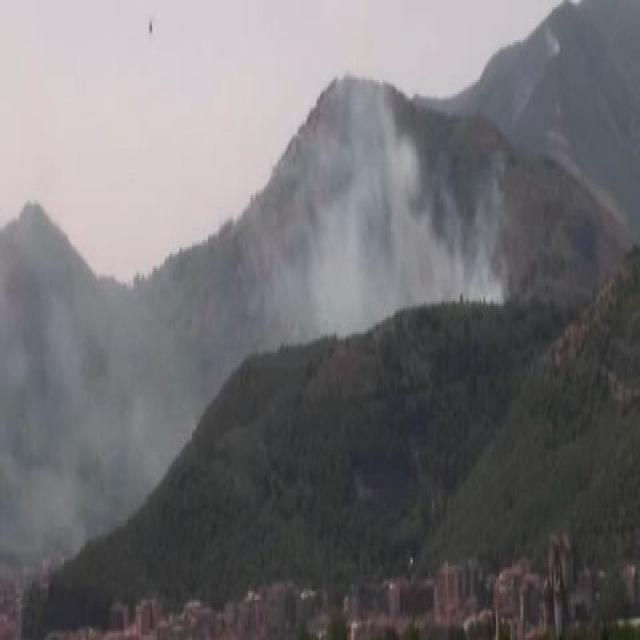smoke: (256, 126, 495, 320), (18, 283, 173, 494)
